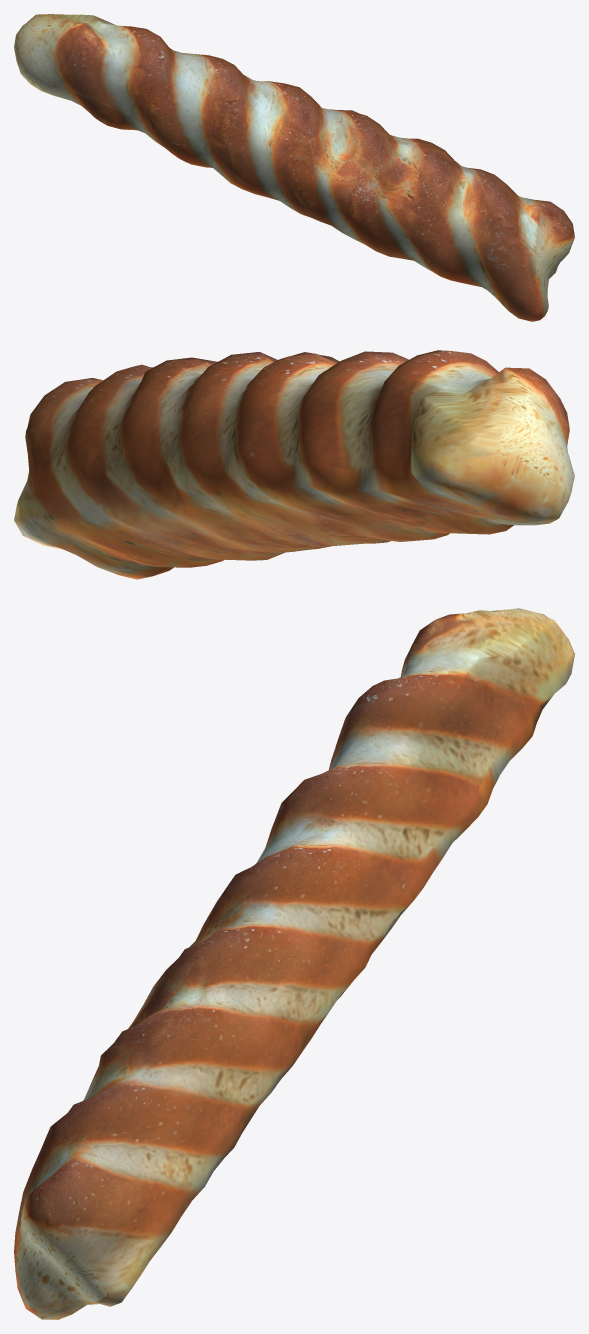
Rendered from Baguette.fbx.
3 views of the same model, one above another, from view 1: azimuth 30°, elevation 25°; view 2: azimuth 150°, elevation 25°; view 3: azimuth 270°, elevation 25° (orthographic). The views are drawn at different scales.
Parts seen in each view (by area): view 1: Baguette; view 2: Baguette; view 3: Baguette.
Part boxes in pixels (x1,y1,x2,y2): Baguette: (14, 14, 574, 321); Baguette: (14, 350, 574, 579); Baguette: (14, 608, 574, 1319).
Bounding box in the file's own units: 13.31 × 8.58 × 9.73.
